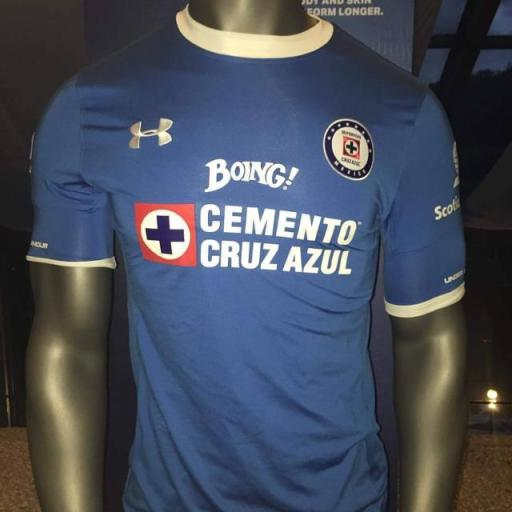Under Armour: (126, 114, 176, 150)
